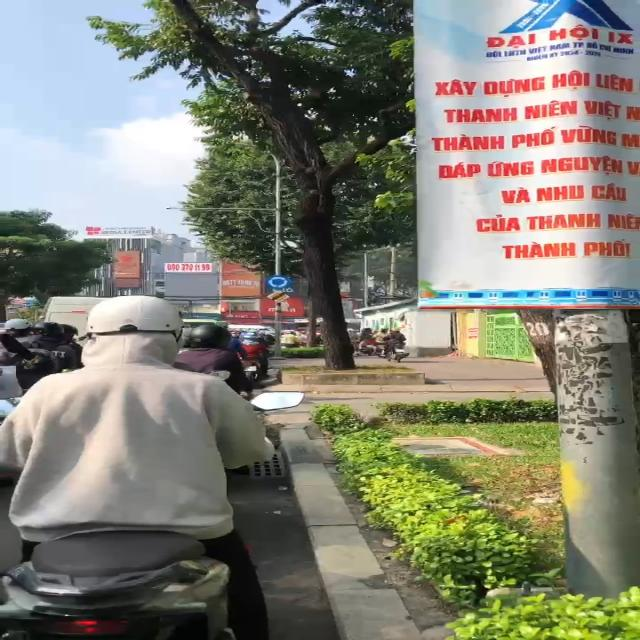Bien bao noi giao nhau chay theo vong xuyen: (263, 273, 293, 291)
